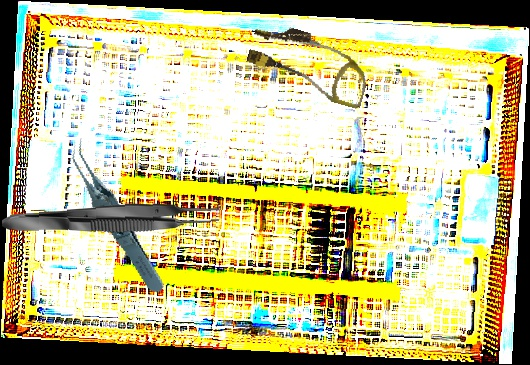Cannula: (242, 18, 376, 110)
Tissue Forceps: (67, 127, 167, 305), (1, 199, 220, 238)
